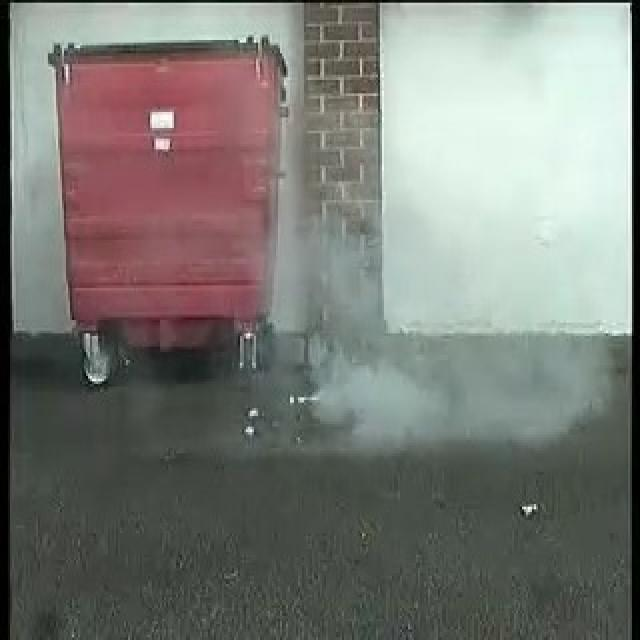smoke: (274, 213, 408, 435)
